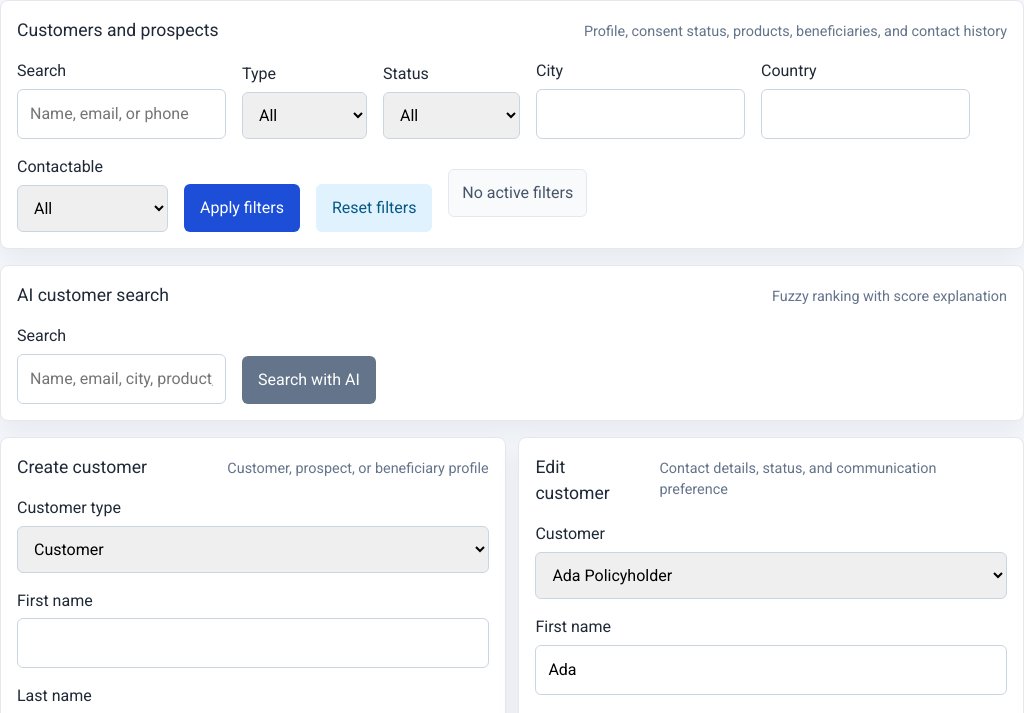
Test: CustomersPage › resets customer search and filter controls
The width and height of the screenshot is (1024, 713).
Type "Ada" into the field named "Search customers". click: (122, 114)
box: [17,89,226,139]
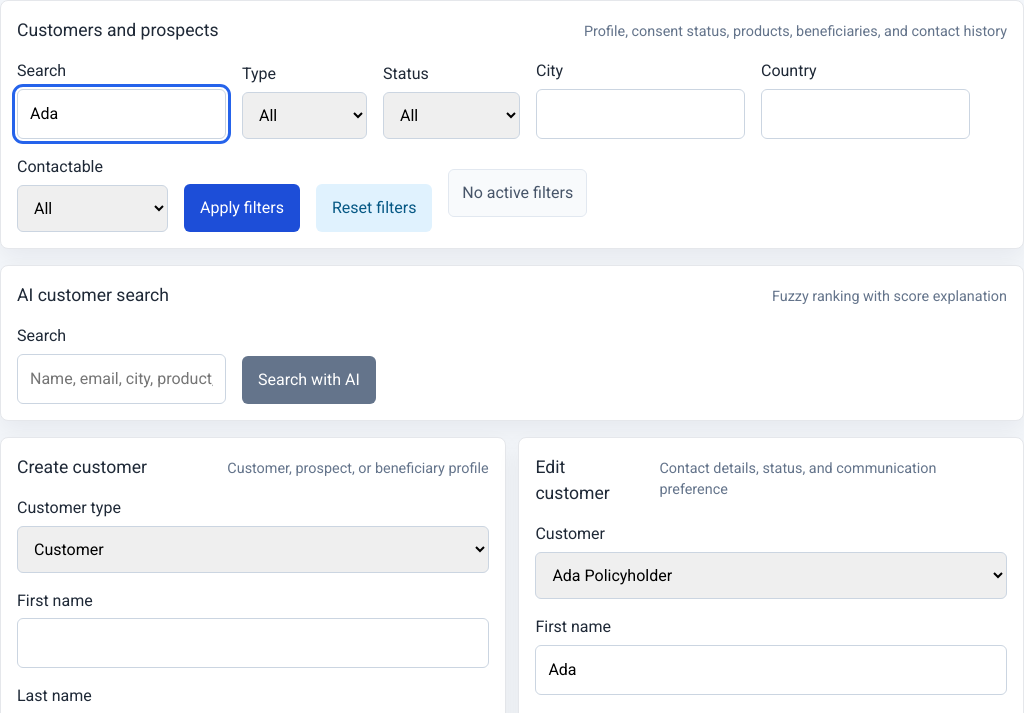
Select "Active" in the dropdown named "Customer status filter". click: (452, 116)
box: [383,92,520,139]
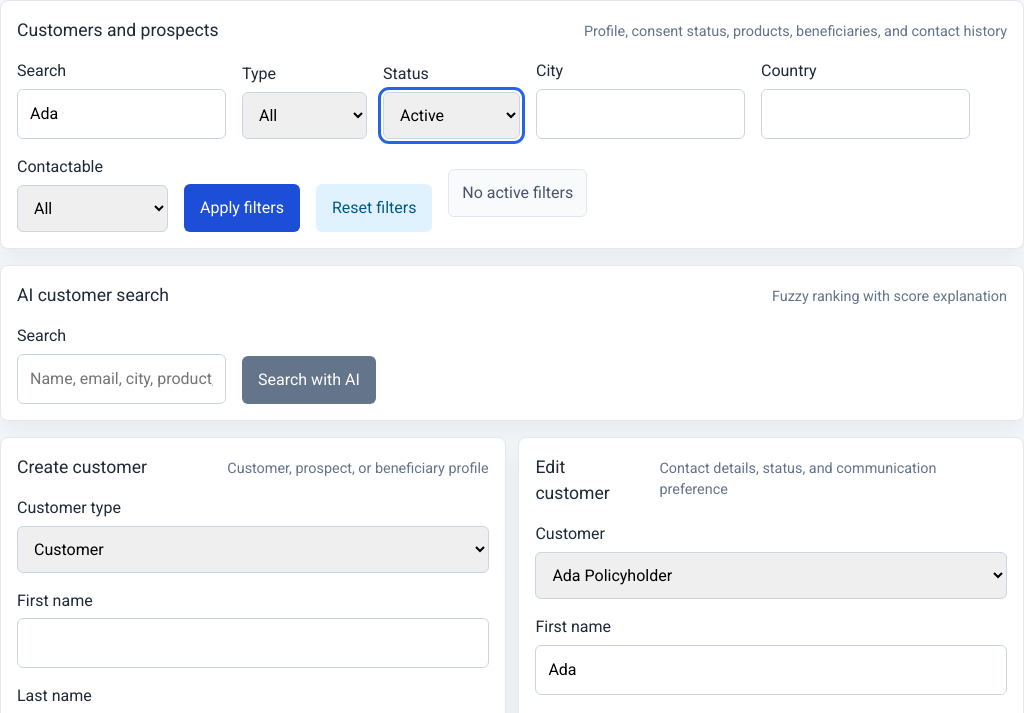
Click the button "Apply filters". click: click(242, 208)
box: [184,184,300,232]
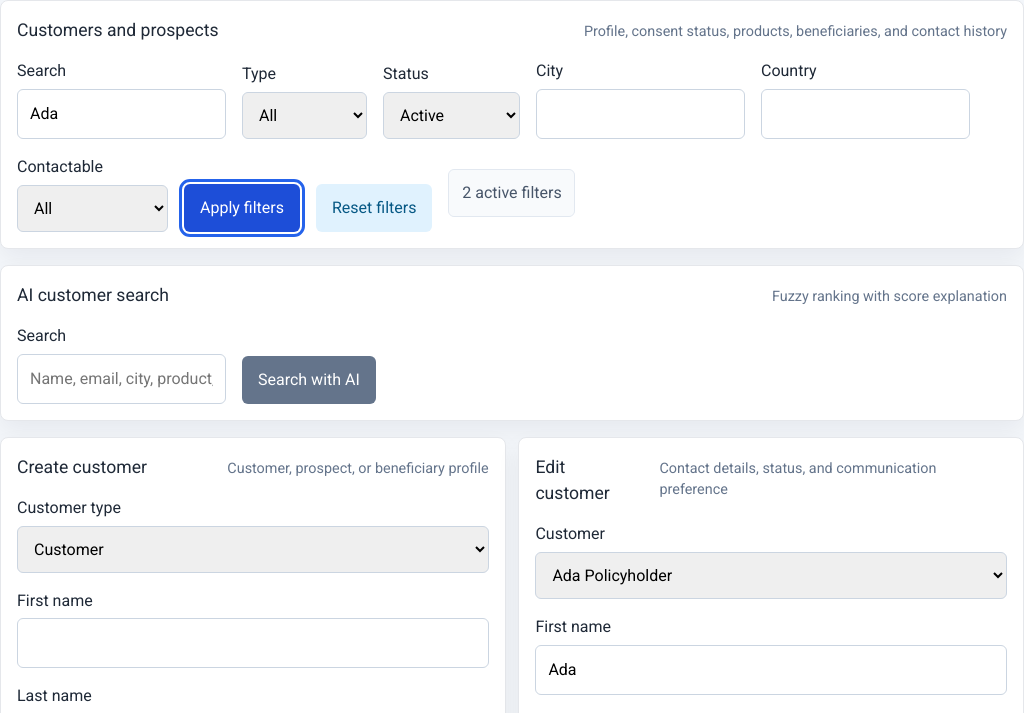
Expected: the text "2 active filters" is shown, [448,169,576,218]
Click the button "Reset filters". click: click(374, 208)
box: [316,184,432,232]
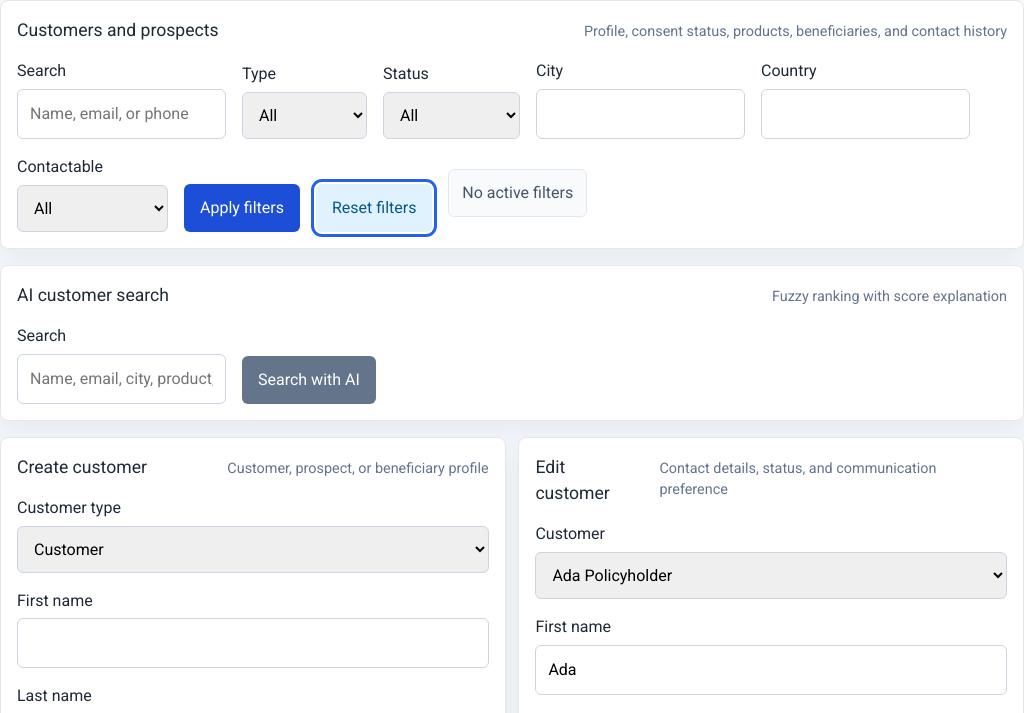
Expected: the field named "Search customers" is empty, [17,89,226,139]
Expected: the text "No active filters" is shown, [448,169,587,218]
